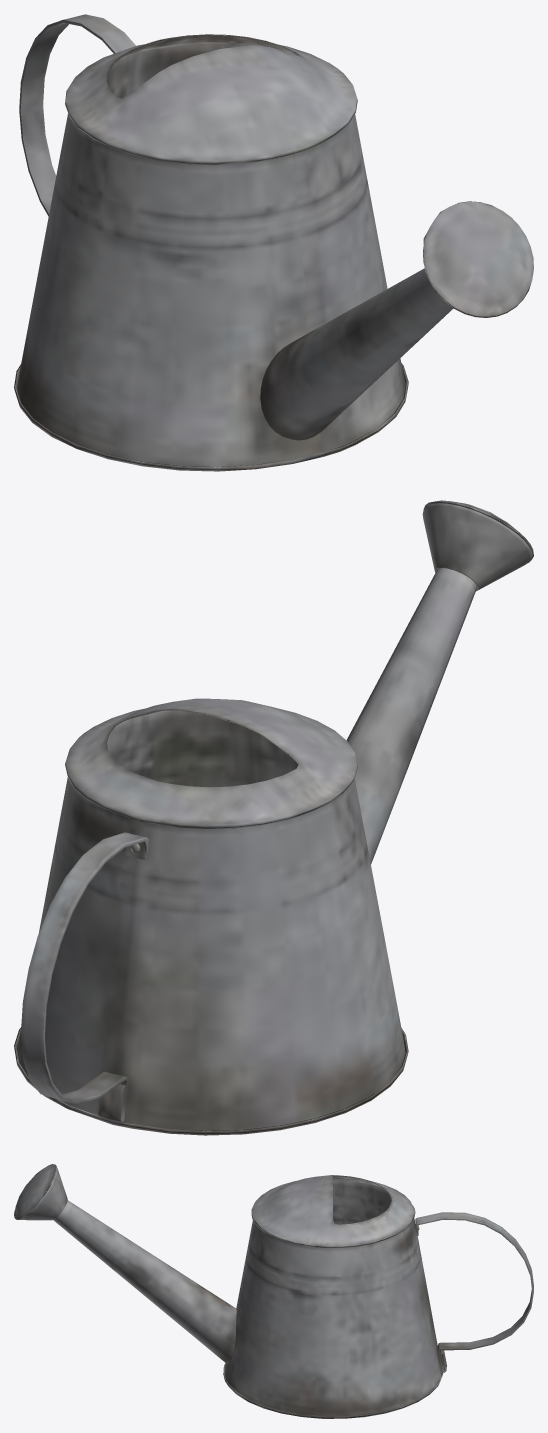
File: watering-can.3d2cc904.glb
3 views of the same model, one above another, from view 1: azimuth 30°, elevation 25°; view 2: azimuth 150°, elevation 25°; view 3: azimuth 270°, elevation 25° (orthographic). The views are drawn at different scales.
Parts seen in each view (by area): view 1: model; view 2: model; view 3: model.
Part boxes in pixels (x1=…): model: x1=14, y1=14, x2=533, y2=471; model: x1=14, y1=500, x2=533, y2=1135; model: x1=14, y1=1164, x2=533, y2=1418.
Bounding box in the file's own units: 0.191 × 0.1965 × 0.4521.
Materials: 1 (1 with a texture image).
